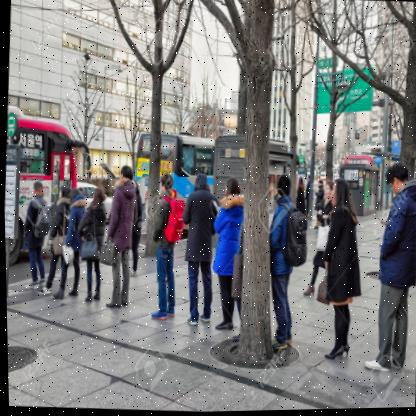person: (369, 156, 416, 373), (319, 186, 372, 360), (99, 154, 145, 312), (268, 173, 310, 345), (210, 175, 252, 341), (149, 161, 185, 327), (183, 167, 221, 318), (46, 174, 82, 287), (80, 186, 112, 310), (22, 169, 51, 287), (63, 186, 92, 297), (318, 180, 335, 289)
